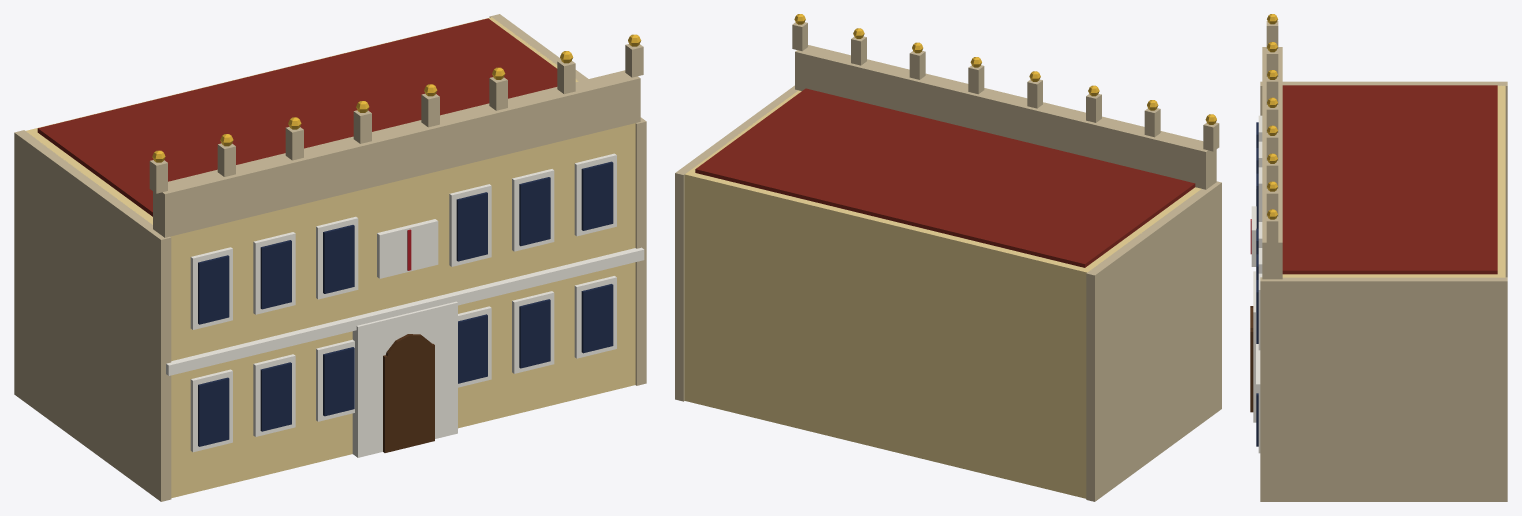
The model's file is akademia.glb.
3 renders of one model, left to right at view 1: azimuth 30°, elevation 25°; view 2: azimuth 150°, elevation 25°; view 3: azimuth 270°, elevation 25°, orthographic. The views are drawn at different scales.
Visible parts, largest first — view 1: akademia; view 2: akademia; view 3: akademia.
Part boxes in pixels (box(x1,y1,x2,y2)): akademia: box(14, 14, 646, 501); akademia: box(675, 14, 1221, 501); akademia: box(1250, 14, 1507, 501).
Bounding box in the file's own units: 5.84 × 3.95 × 3.17.
